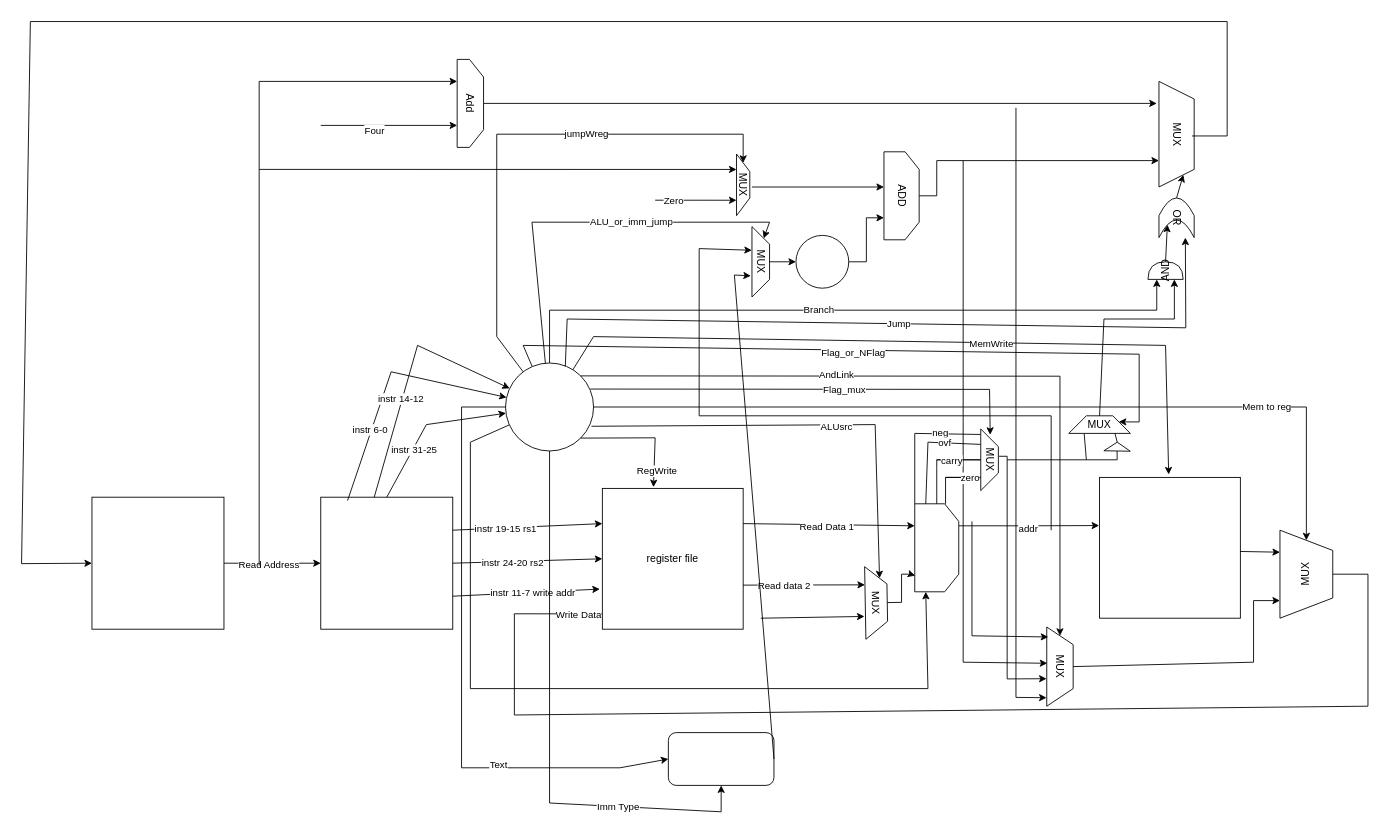
Image size: 1390x834. Some labels were removed from this diagram. The box of each missing label's shape, as (x1, y1, x2, y2) in pixels:
ALU: (914, 503, 959, 592)
Control Unit: (505, 362, 594, 451)
Instruction memory: (320, 496, 453, 629)
Memory: (1099, 477, 1240, 618)
PC Counter: (91, 496, 224, 629)
Shift left 2: (795, 235, 849, 288)
sign_extender: (667, 732, 774, 785)
